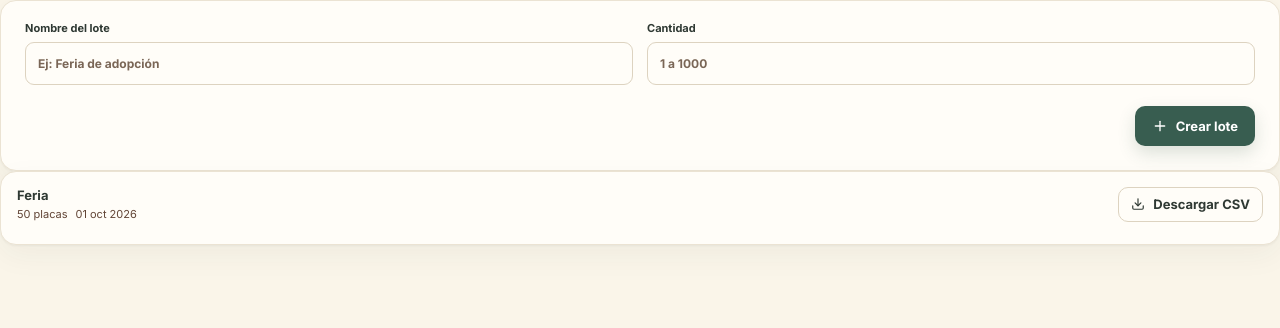
Test case: TagBatchesAdmin › creates a batch of 10 and shows its CSV link on top
This screenshot has width=1280, height=328.
Expected: the text "Feria" is shown, x1=17 y1=187 x2=48 y2=203
Type "Lote nuevo" into the field labelled "Nombre del lote". click: x=329, y=64
box: x1=25 y1=42 x2=633 y2=85
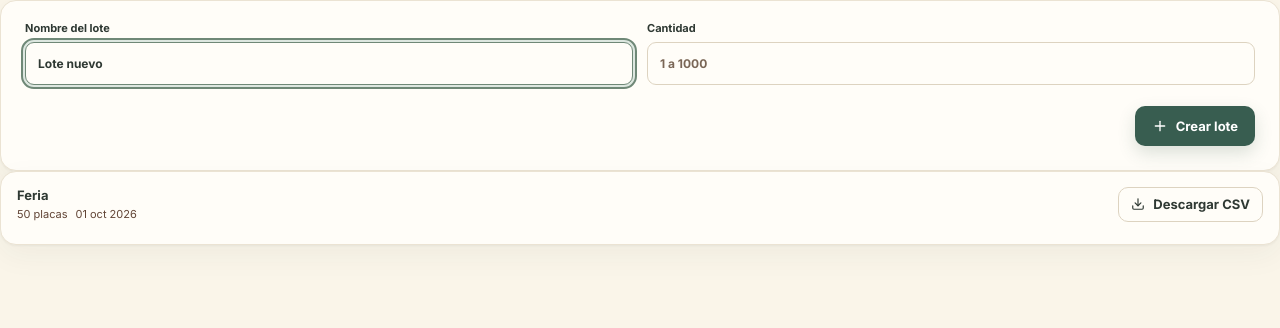
Type "10" into the field labelled "Cantidad". click: x=951, y=64
box: x1=647 y1=42 x2=1255 y2=85
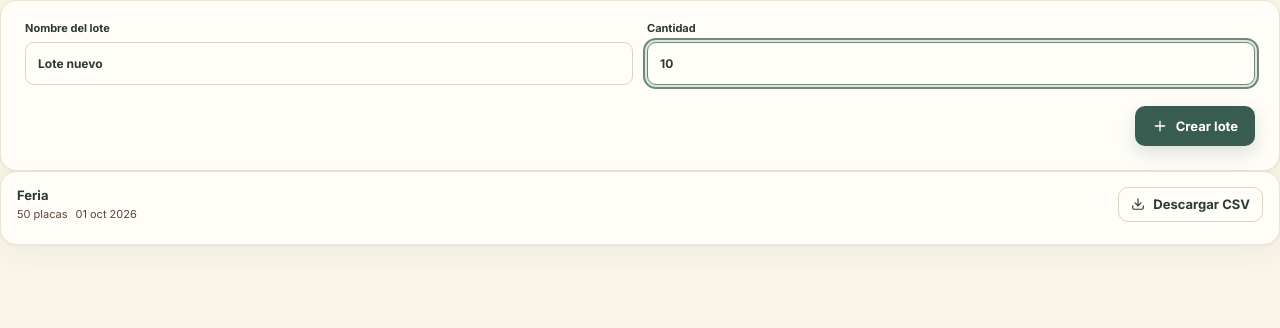
Click the button "Crear lote". click: x=1195, y=126
box: x1=1135 y1=106 x2=1255 y2=146
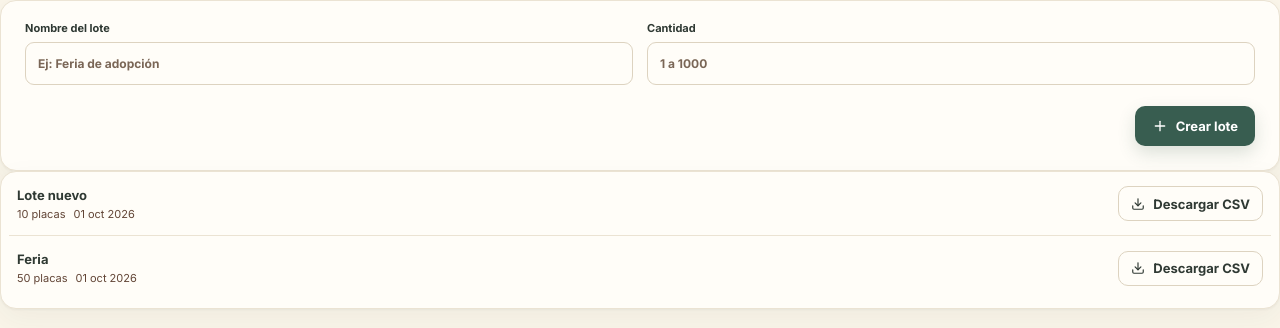
Now the text "Lote nuevo" is shown, box x1=17 y1=186 x2=87 y2=202
